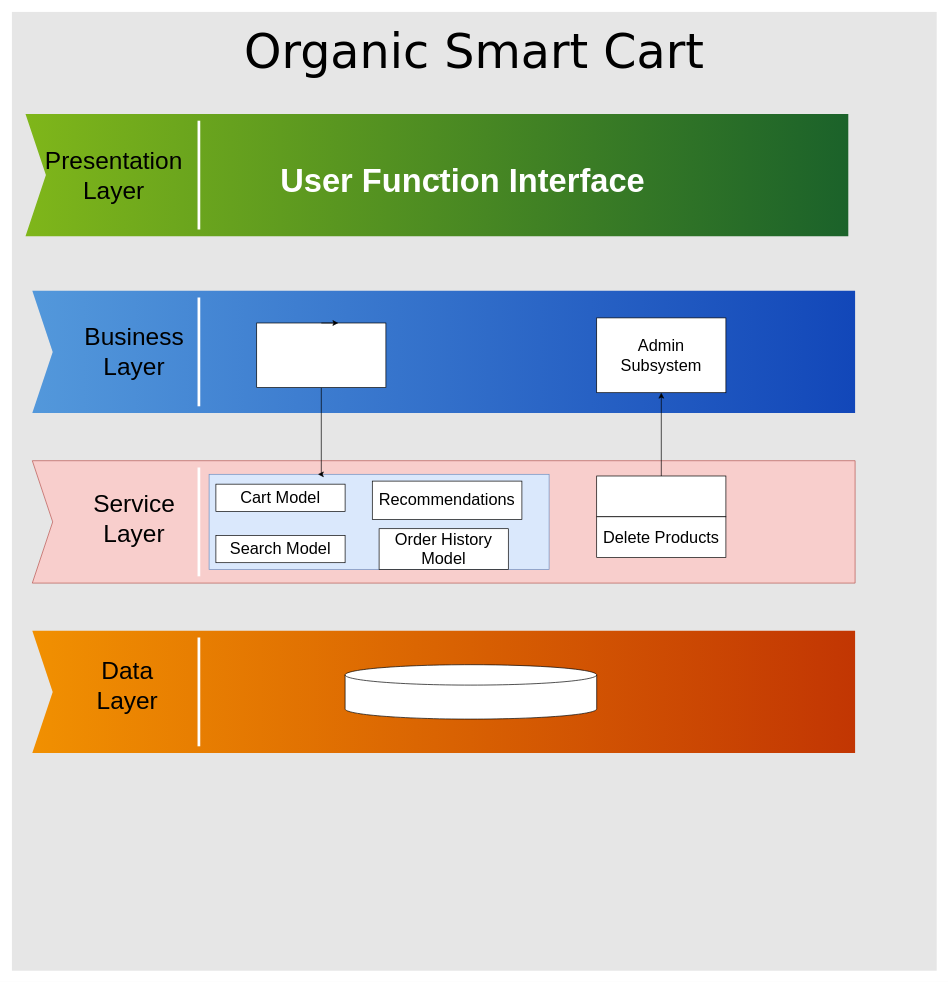
This 948x982 diagram has some shape labels left out. The centre of each missing label's shape, as x and y in pixels:
Add Products: (x=661, y=496)
Database: (x=470, y=691)
User Subsystem: (x=321, y=355)
